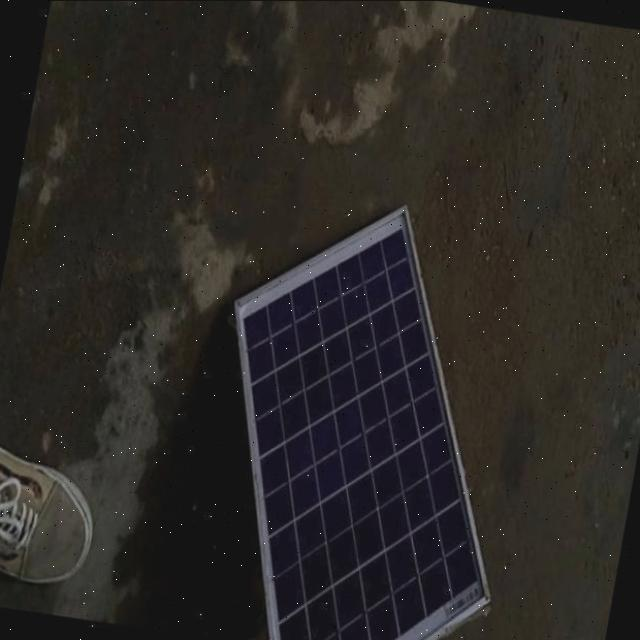Normal Solar Panel: (174, 179, 553, 640)
